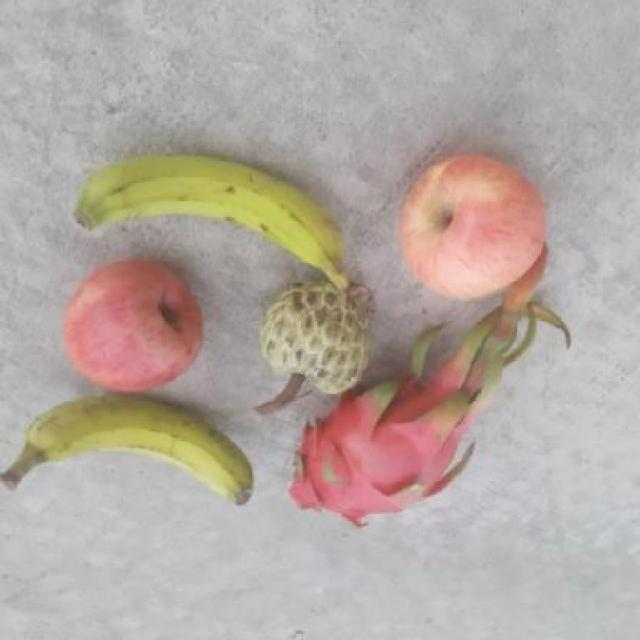apple: (387, 148, 548, 304), (56, 257, 206, 394)
banana: (71, 150, 372, 305), (2, 396, 253, 506)
dragon fruit: (274, 362, 484, 533)
sugar apple: (254, 279, 378, 390)
